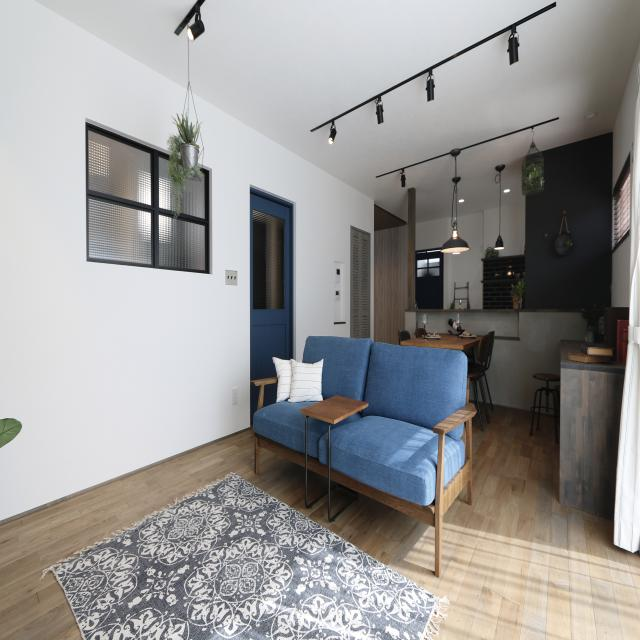vintage sofa: (245, 334, 475, 578)
